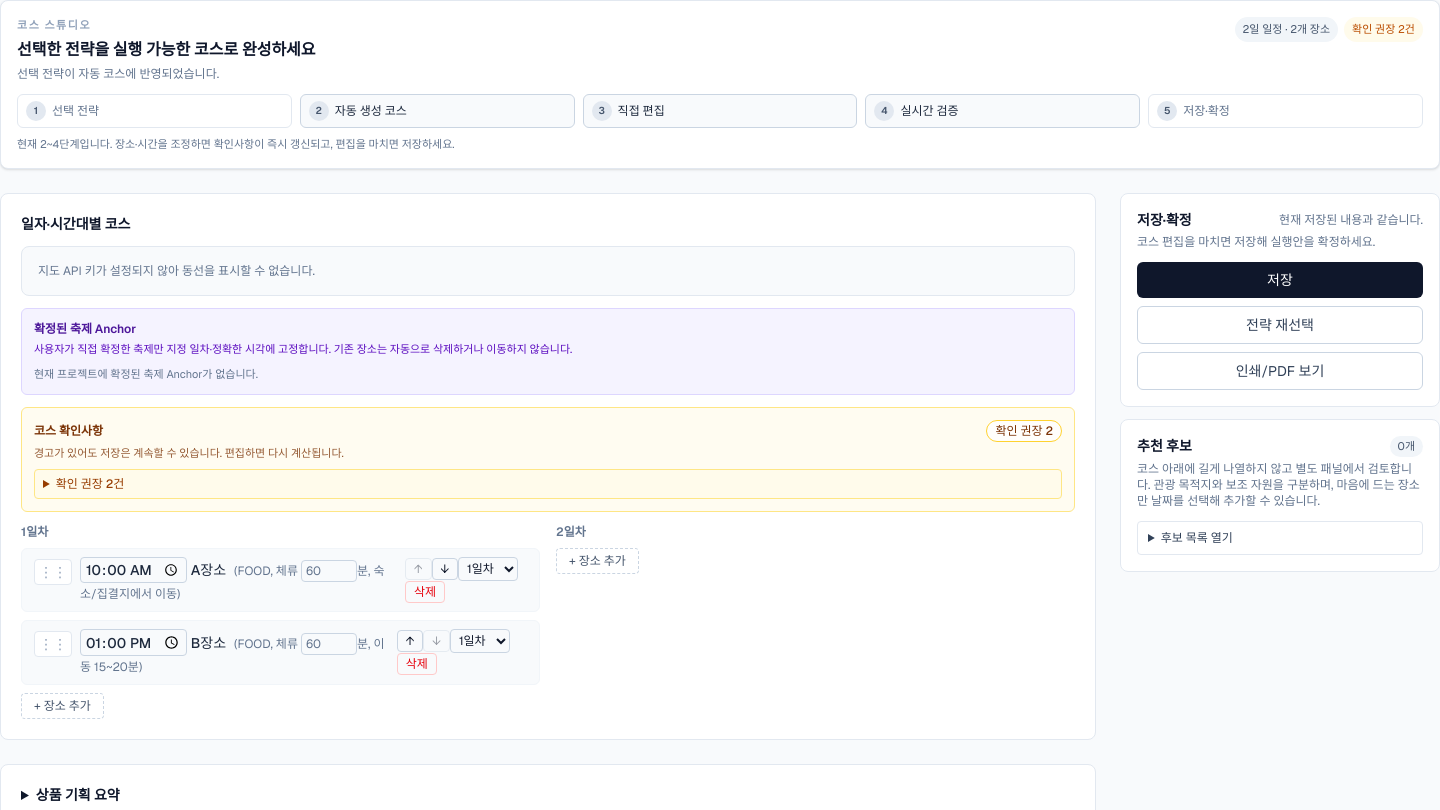
Scenario: PlanEditor 코스 순서 변경 › 시간을 직접 입력해 순서를 바로잡으면 경고가 사라진다
The width and height of the screenshot is (1440, 810).
Click the button named "B장소 위로 이동": (410, 641) [397, 630, 423, 652]
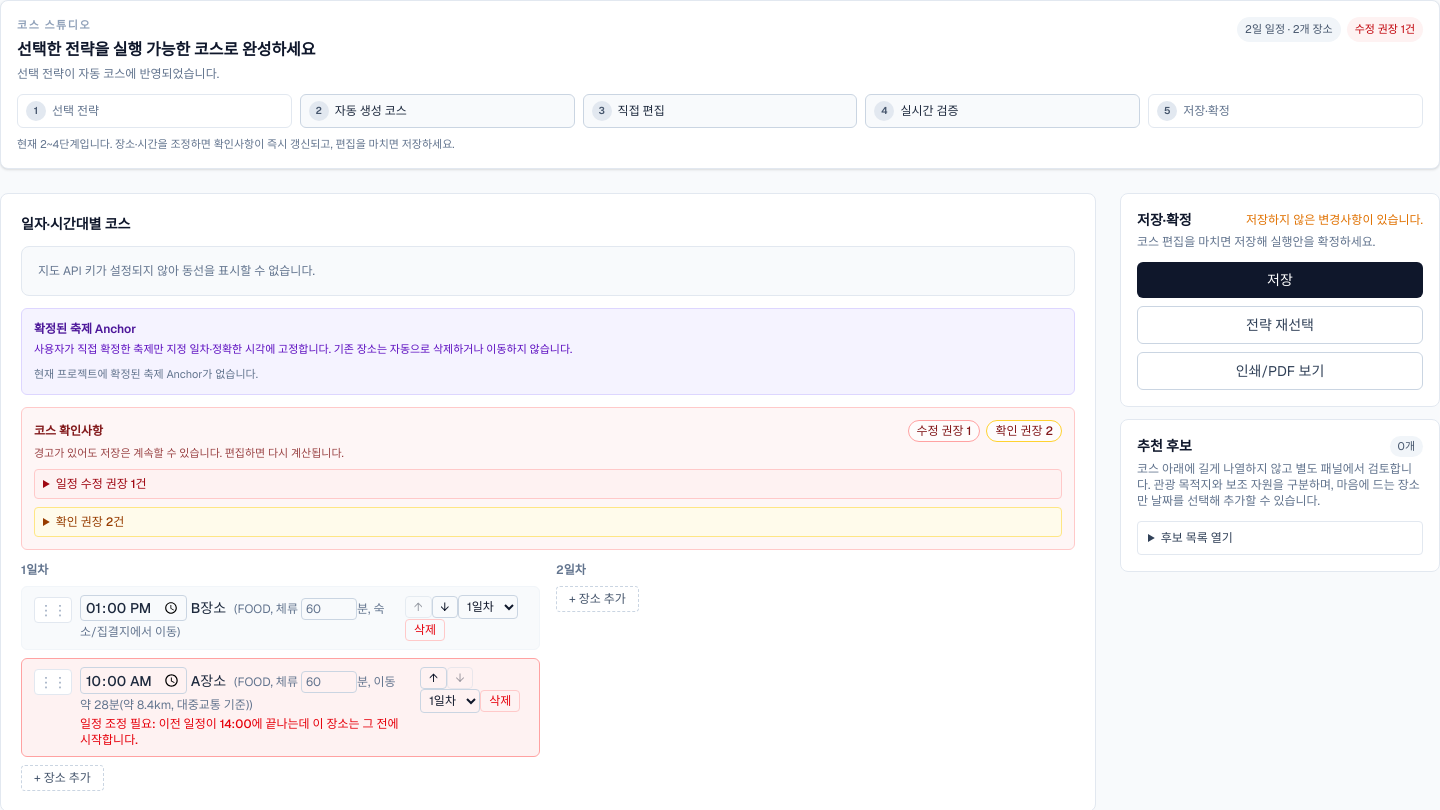
Expected: the text "일정 조정 필요: 이전 일정이 14:00에 끝나는데 이 장소는 그 전에 시작합니다." is shown, [80, 716, 408, 748]
Replace the text in the time field named "B장소 시간" with "09:00": (133, 608) [80, 595, 187, 621]
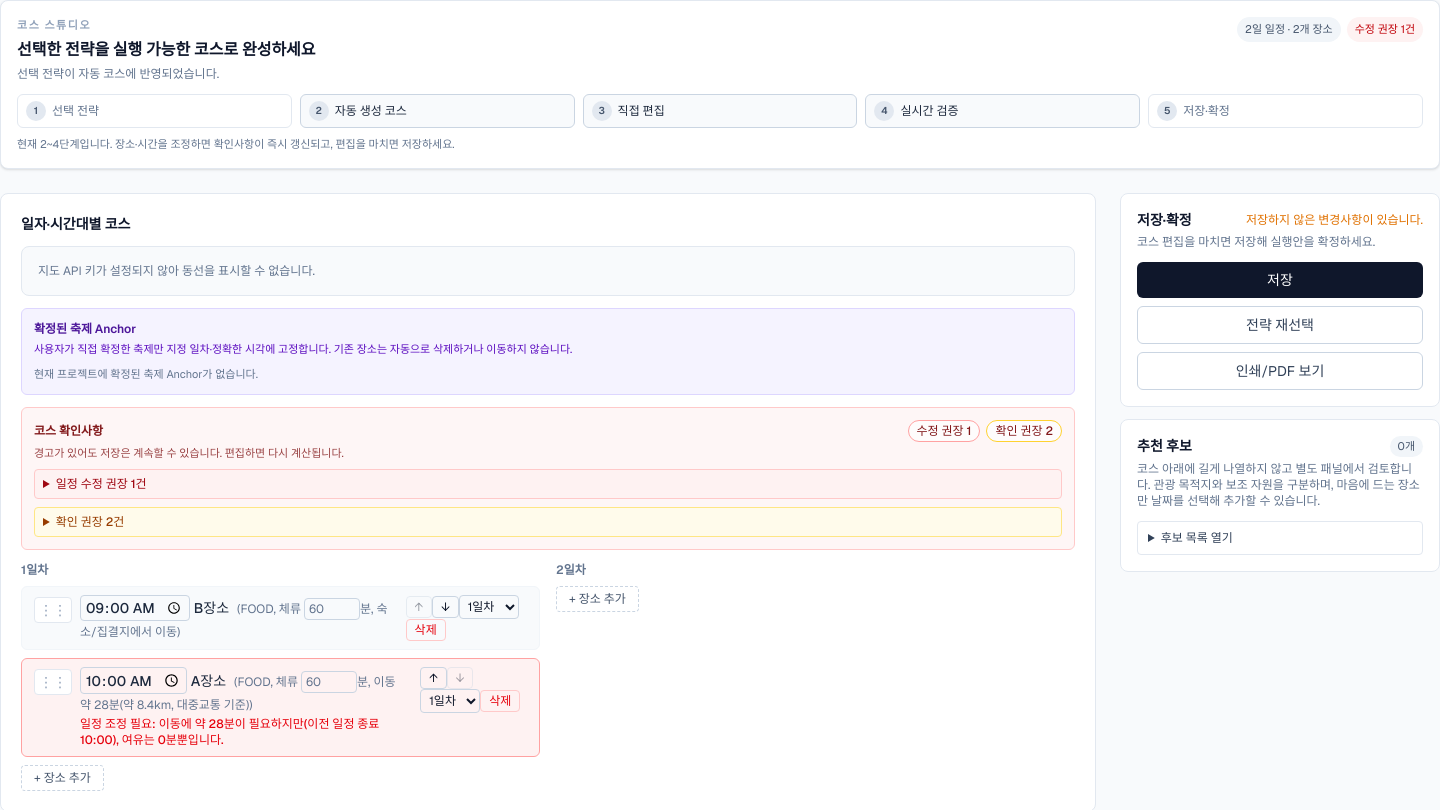
Expected: the text "전에 시작합니다" is gone
